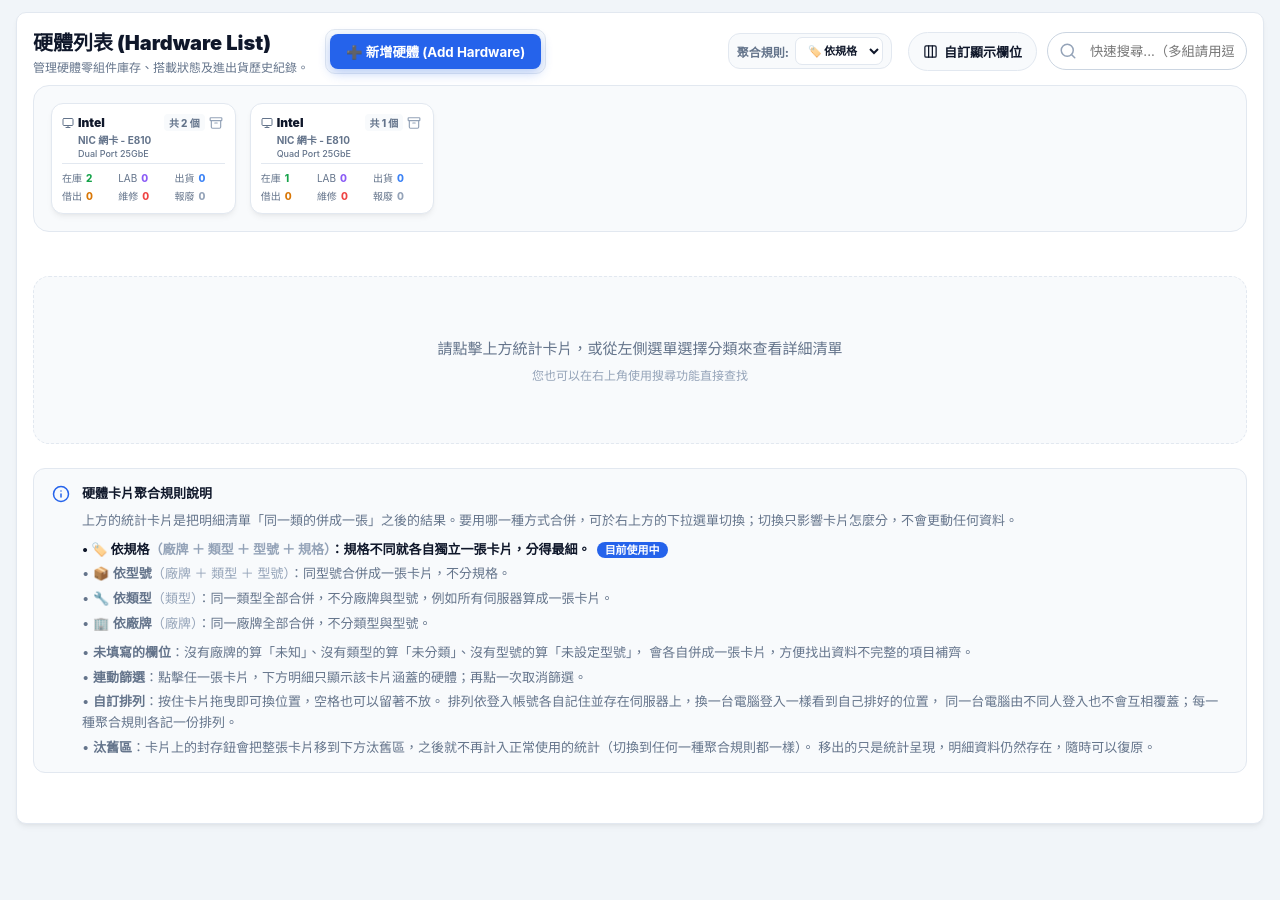
設備、硬體與耗材卡片依「廠牌+類型+型號+規格」聚合測試 › HwList 點擊「依廠牌」切換時，同一廠牌應合併為單一卡片
expect the heading "硬體列表 (Hardware List)" is shown: met, box [33,27,309,56]
Select "🏢 依廠牌" in the dropdown labelled "聚合規則:" at point(839, 51), box [795,37,883,65]
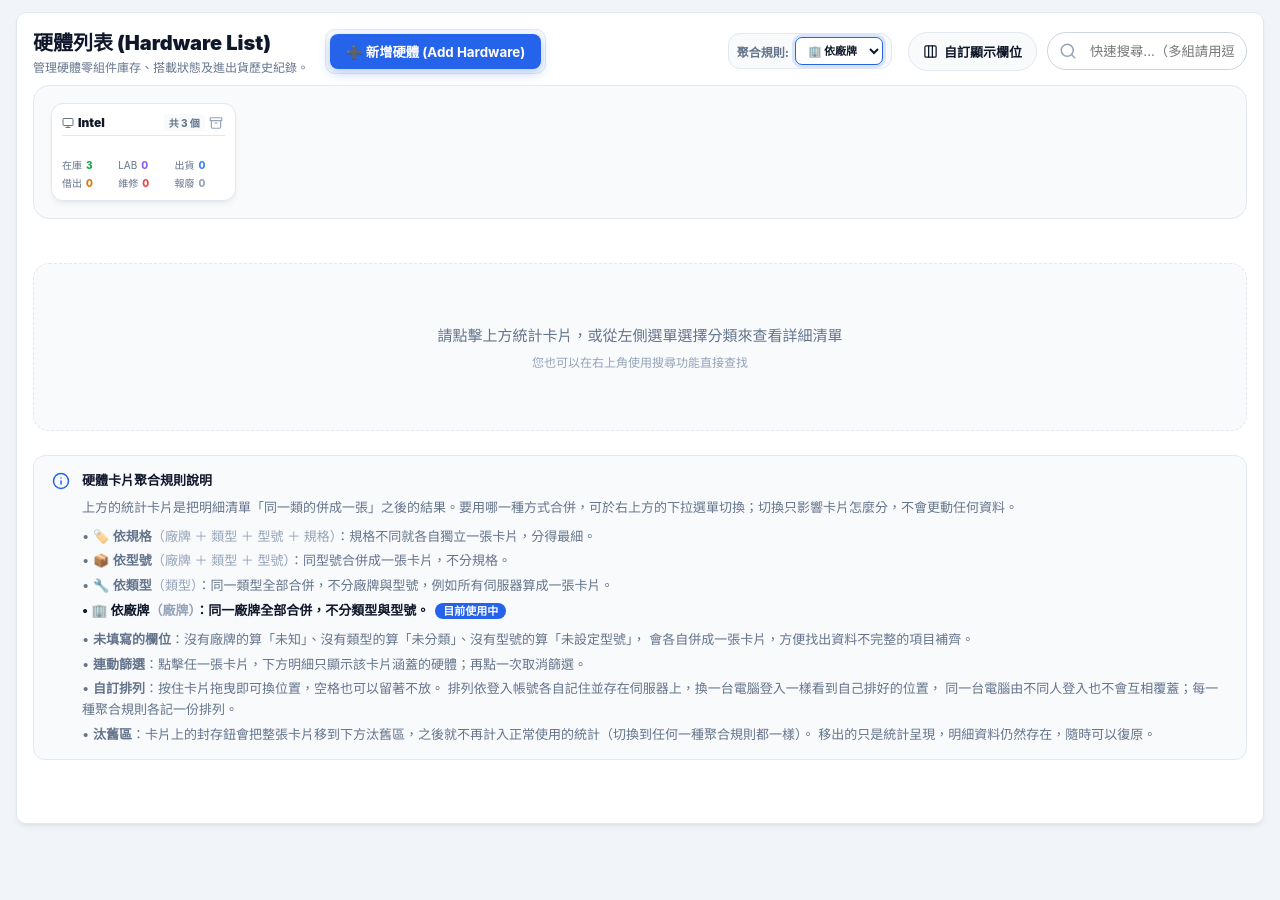
expect the text "共 3 個" is shown: met, box [164,114,205,131]
